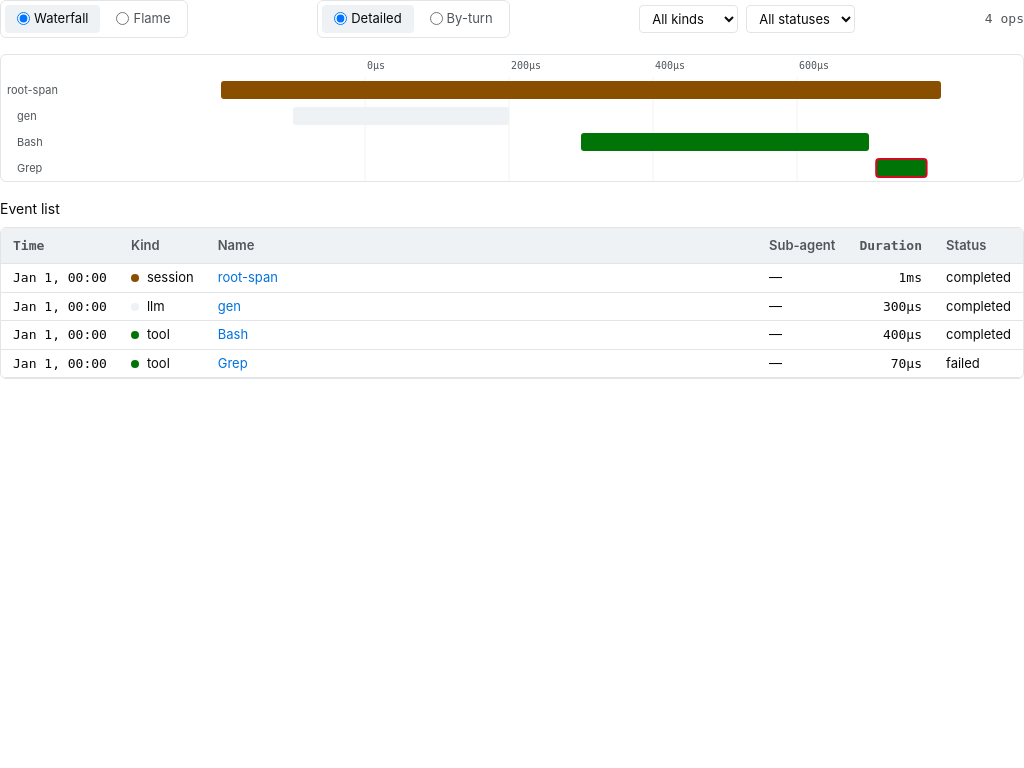
Test: TraceTab › opens the drawer when an event-list row is clicked
The width and height of the screenshot is (1024, 768).
Click the button "Grep".
click(233, 363)  # box top-left (218, 354), bottom-right (248, 373)
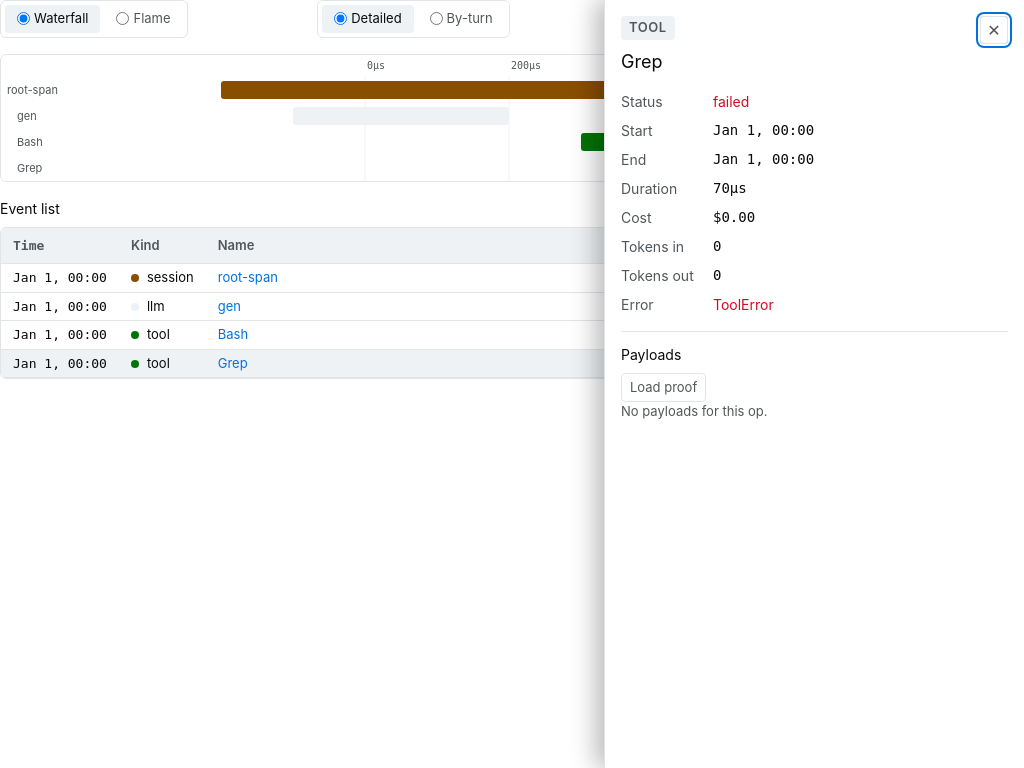
Expected: the text "ToolError" is shown, top-left (713, 296), bottom-right (774, 312)
